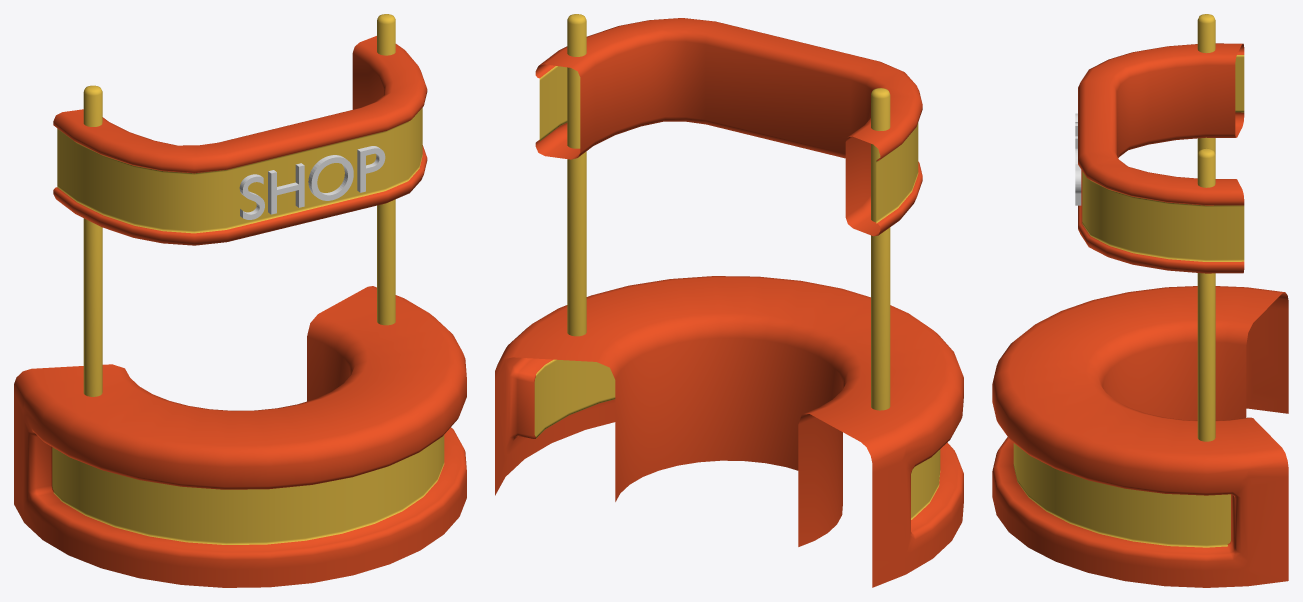
The model's file is Shop_01a.fbx.
3 renders of one model, left to right at view 1: azimuth 30°, elevation 25°; view 2: azimuth 150°, elevation 25°; view 3: azimuth 270°, elevation 25°, orthographic. The views are drawn at different scales.
Visible parts, largest first — view 1: Shop_01a, Shop_Text_01a; view 2: Shop_01a; view 3: Shop_01a, Shop_Text_01a.
Part boxes in pixels (<box>): Shop_01a: <box>14,14,466,587</box>; Shop_Text_01a: <box>239,146,385,219</box>; Shop_01a: <box>495,14,963,587</box>; Shop_01a: <box>992,14,1288,587</box>; Shop_Text_01a: <box>1075,113,1081,205</box>.
Bounding box in the file's own units: 209 × 223 × 145.
